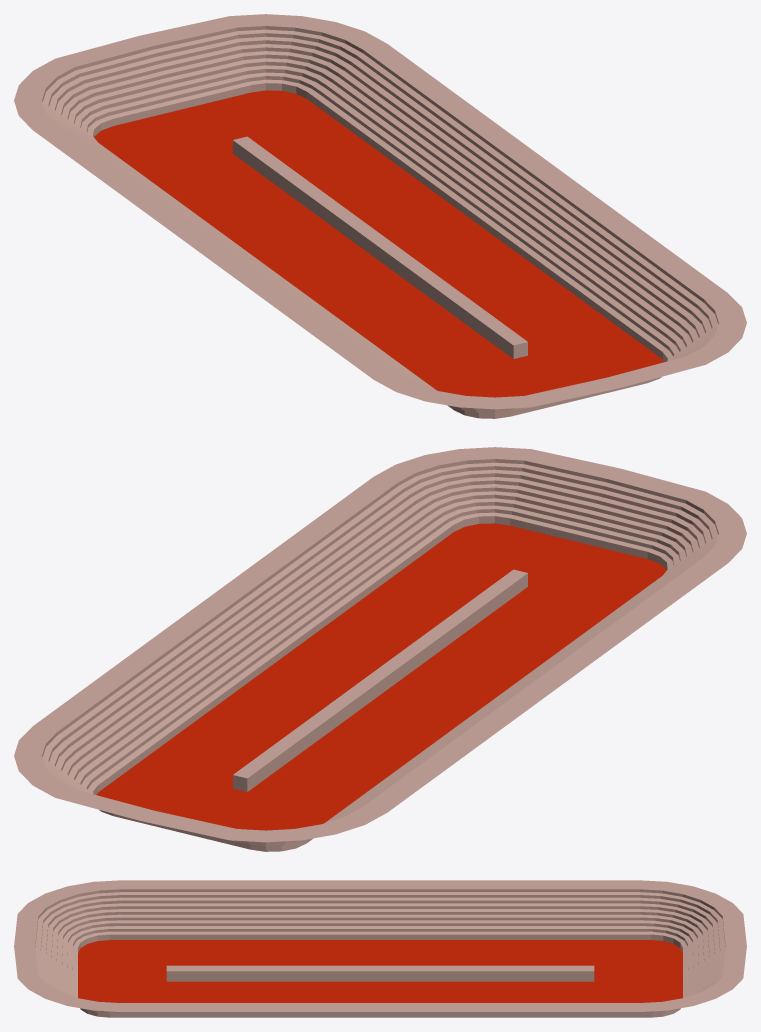
The model's file is Stadium_MINIMAL.obj.
3 renders of one model, top to bottom at view 1: azimuth 30°, elevation 25°; view 2: azimuth 150°, elevation 25°; view 3: azimuth 270°, elevation 25°, orthographic. The views are drawn at different scales.
Visible parts, largest first — view 1: Stadium, ground, barrier; view 2: Stadium, ground, barrier; view 3: Stadium, ground, barrier.
Boxes of the visible parts, x1,y1,x2,y2 form: Stadium: (14,14,746,418); ground: (94,90,664,397); barrier: (233,136,527,358); Stadium: (14,447,746,851); ground: (96,523,666,830); barrier: (233,569,527,791); Stadium: (14,880,746,1017); ground: (78,940,682,1002); barrier: (166,965,594,981).
Bounding box in the file's own units: 72.93 × 8.48 × 171.
